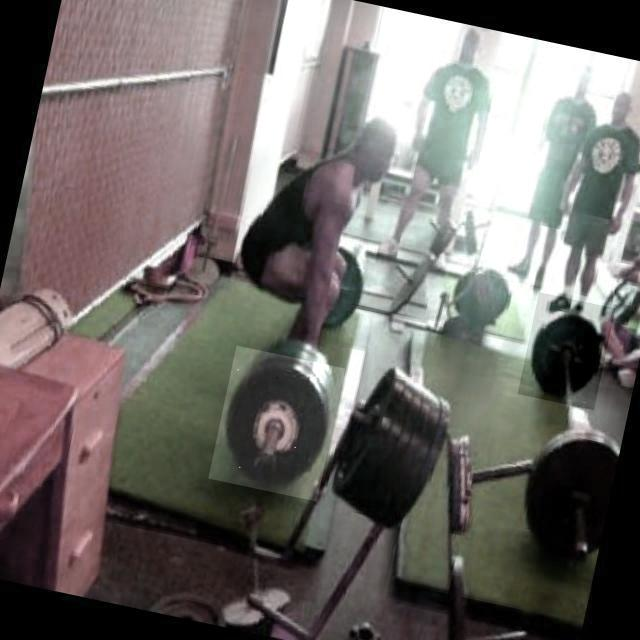barbell: (208, 345, 345, 502), (517, 292, 615, 410)
